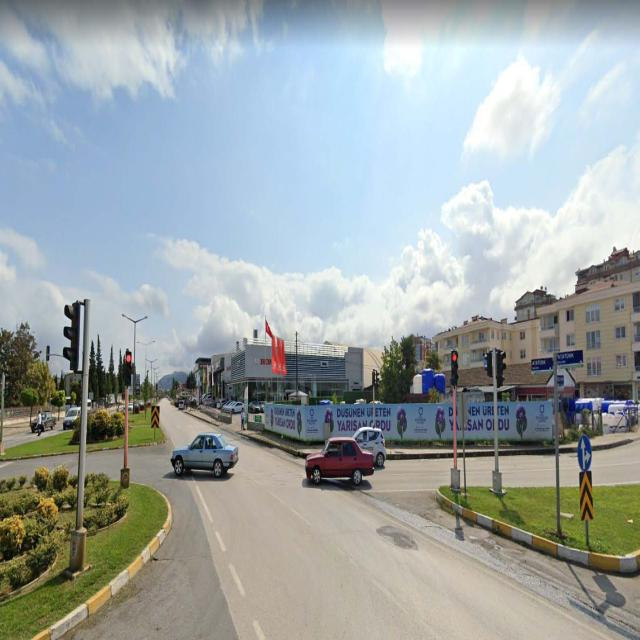ilerisag: (578, 436, 593, 472)
kirmizi: (126, 351, 131, 385), (452, 352, 457, 384)
